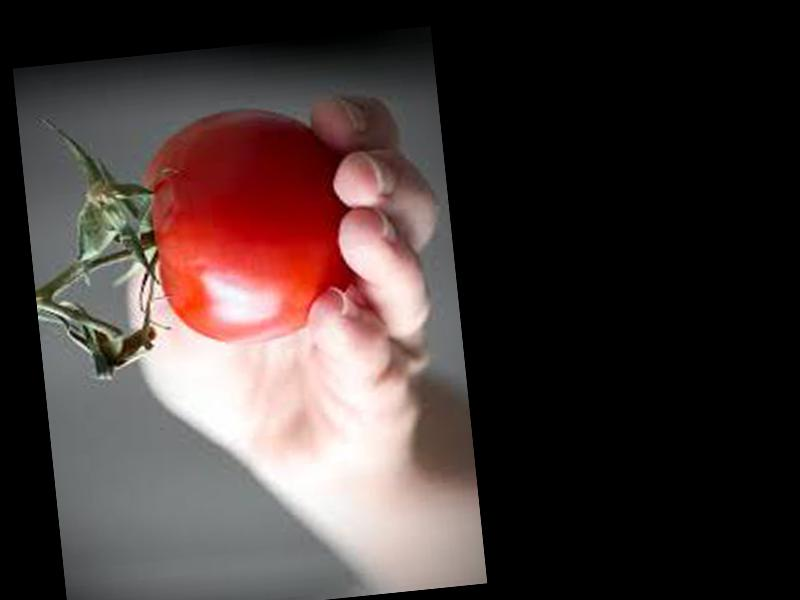Tomato: (133, 99, 360, 351)
